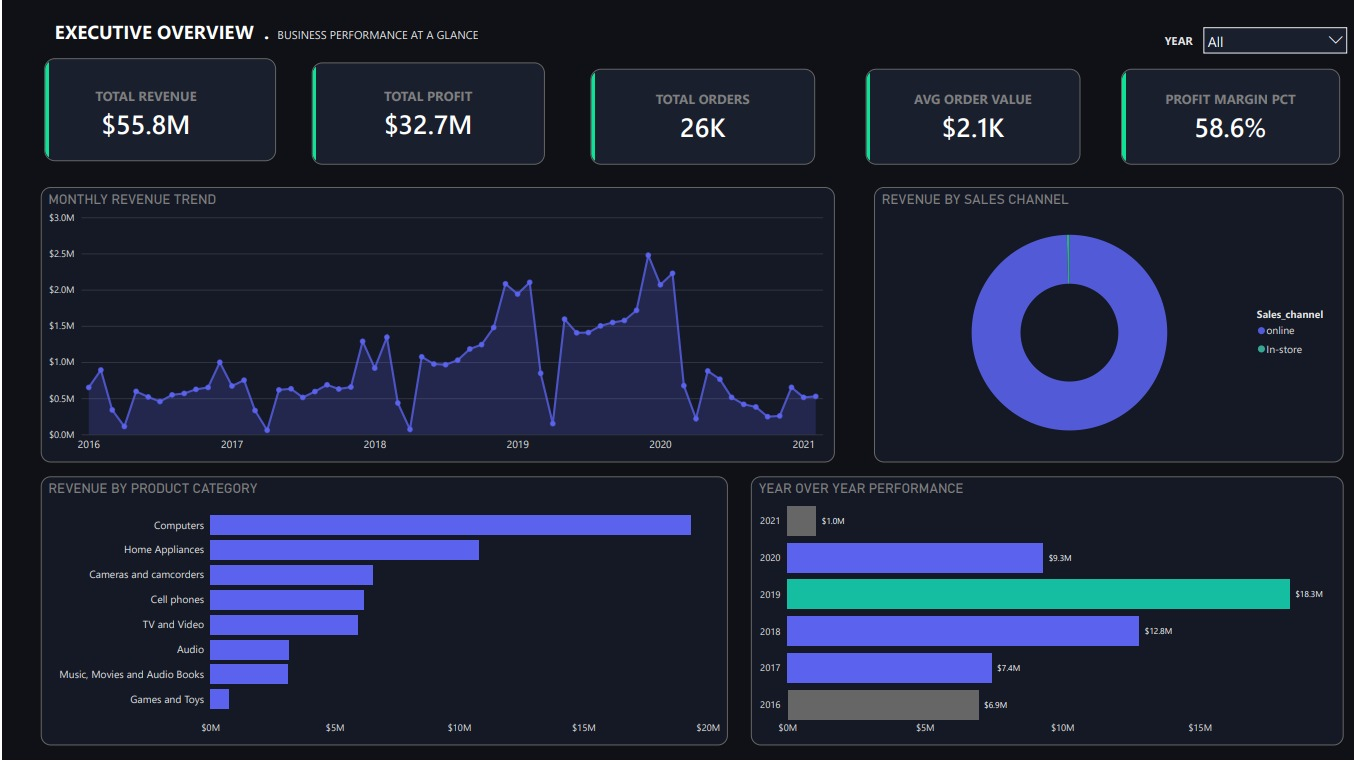

The page's visual inventory and layout, read from the dashboard file:
{"tool":"powerbi","page":{"name":"Executive overview","canvas":[1920,1080],"ordinal":0},"visuals":[{"type":"cardVisual","fields":{"Data":["_Measures.Total Revenue"]},"box":[53.6,83.2,339.3,156.1],"z":0},{"type":"cardVisual","fields":{"Data":["_Measures.Total profit"]},"box":[433.9,83.9,341.1,155.4],"z":1000},{"type":"cardVisual","fields":{"Data":["_Measures.Total Orders"]},"box":[830.4,92.9,328.6,146.4],"z":2000},{"type":"cardVisual","fields":{"Data":["_Measures.Avg Order Value"]},"box":[1221.4,92.9,314.3,146.4],"z":3000},{"type":"cardVisual","fields":{"Data":["_Measures.profit margin pct"]},"box":[1583.9,92.9,321.4,146.4],"z":4000},{"type":"lineChart","title":"MONTHLY REVENUE TREND","fields":{"Category":["sales.Order_Date.Variation.Date Hierarchy.Year","sales.Order_Date.Variation.Date Hierarchy.Month"],"Y":["_Measures.Total Revenue"]},"box":[53.6,266.1,1128.6,391.1],"z":5000},{"type":"pieChart","title":"REVENUE BY SALES CHANNEL","fields":{"Y":["_Measures.Total Revenue"],"Category":["sales.Sales_channel"]},"box":[1237.5,266.1,667.9,391.1],"z":6000},{"type":"clusteredBarChart","title":"REVENUE BY PRODUCT CATEGORY","fields":{"Y":["_Measures.Total Revenue"],"Category":["products.Category"]},"box":[53.6,676.8,976.8,382.1],"z":7000},{"type":"slicer","fields":{"Values":["sales.Order_Date.Variation.Date Hierarchy.Year"]},"box":[1696.4,28.6,223.2,64.3],"z":8000},{"type":"textbox","box":[1544.7,41.8,151.8,45.7],"z":9000},{"type":"clusteredBarChart","title":"YEAR OVER YEAR PERFORMANCE","fields":{"Category":["sales.Order_Date.Variation.Date Hierarchy.Year"],"Y":["_Measures.Total Revenue"]},"box":[1062.5,676.8,842.9,382.1],"z":10000},{"type":"textbox","box":[53.6,21.4,653.6,66.1],"z":11000}]}

Visuals, with their boxes in screenshot pixels (x1, y1, x2, y2), scaled from the page's 1920x1080 canvas onto the 1356x761 screenshot:
cardVisual - _Measures.Total Revenue: select_region(38, 59, 277, 169)
cardVisual - _Measures.Total profit: select_region(306, 59, 547, 169)
cardVisual - _Measures.Total Orders: select_region(586, 65, 819, 169)
cardVisual - _Measures.Avg Order Value: select_region(863, 65, 1085, 169)
cardVisual - _Measures.profit margin pct: select_region(1119, 65, 1346, 169)
"MONTHLY REVENUE TREND" lineChart: select_region(38, 188, 835, 463)
"REVENUE BY SALES CHANNEL" pieChart: select_region(874, 188, 1346, 463)
"REVENUE BY PRODUCT CATEGORY" clusteredBarChart: select_region(38, 477, 728, 746)
slicer - sales.Order_Date.Variation.Date Hierarchy.Year: select_region(1198, 20, 1355, 65)
textbox: select_region(1091, 29, 1198, 62)
"YEAR OVER YEAR PERFORMANCE" clusteredBarChart: select_region(750, 477, 1346, 746)
textbox: select_region(38, 15, 499, 62)
